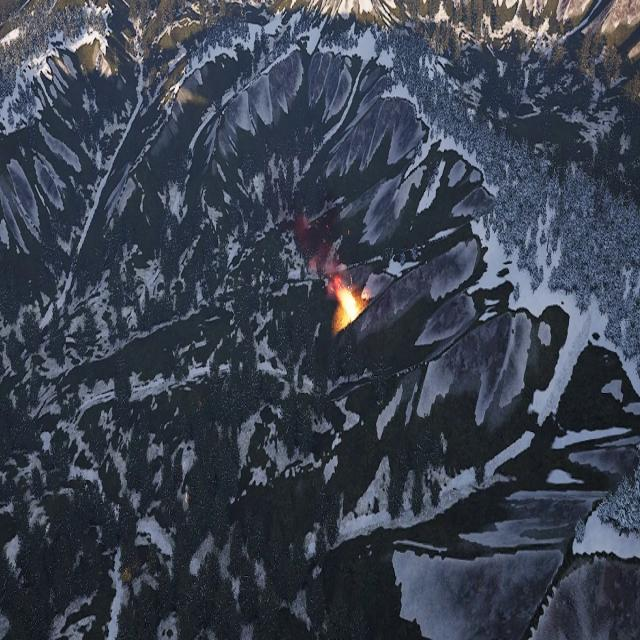fire: (337, 285, 364, 333)
smoke: (291, 212, 347, 302)
